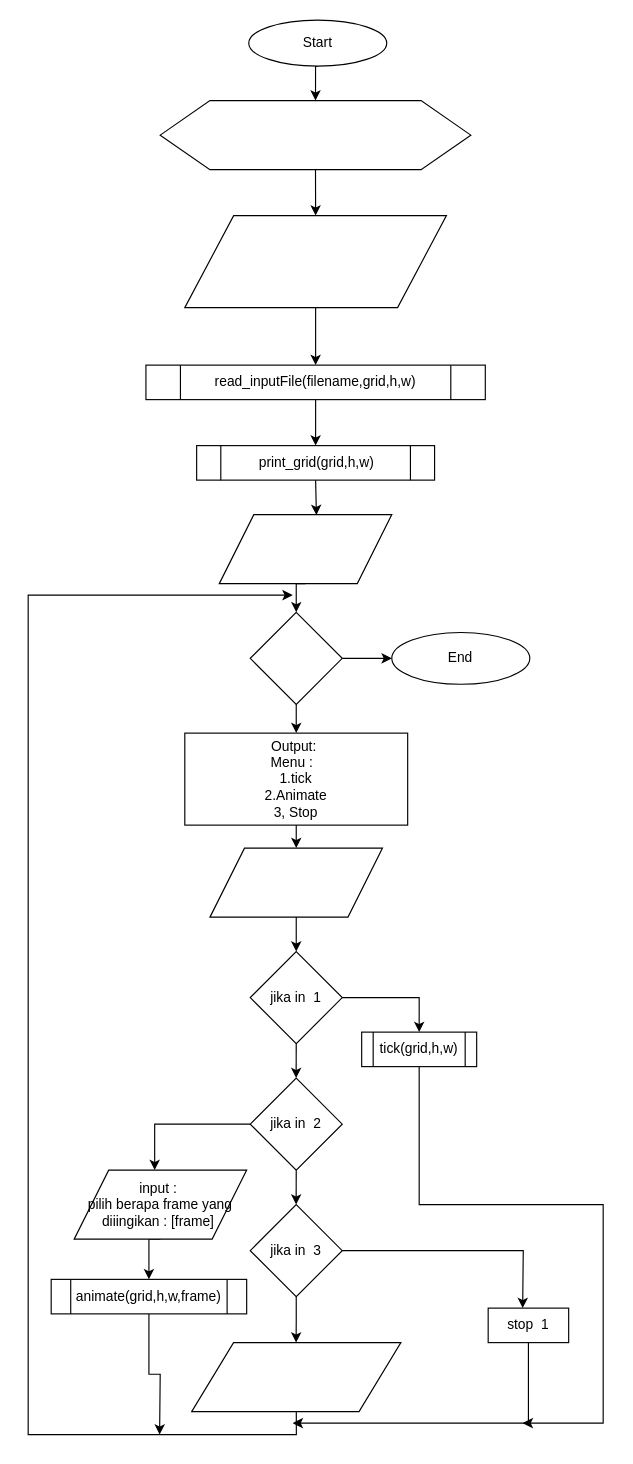
Image size: 633x1464. Some labels were removed from this diagram. The centre of each missing label's shape, as x and y in pixels:
"input : Masukkan nama file : [filename]" belongs at (315,261).
"input : pilih nomor yang diinginkan: [in]" belongs at (295,882).
"Output : pilihan tidak ada di menu, silahkan coba lagi" belongs at (296,1376).
"Output : Print Seed awal" belongs at (305,548).
"Semua inisialisasi array : array dinamis" belongs at (315,134).
"stop 0" belongs at (295,657).
